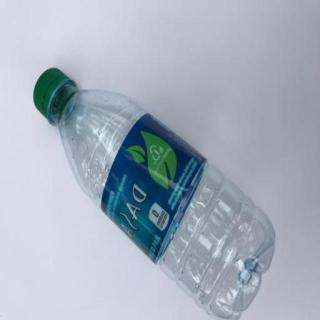Anorganik: (31, 60, 277, 318)
